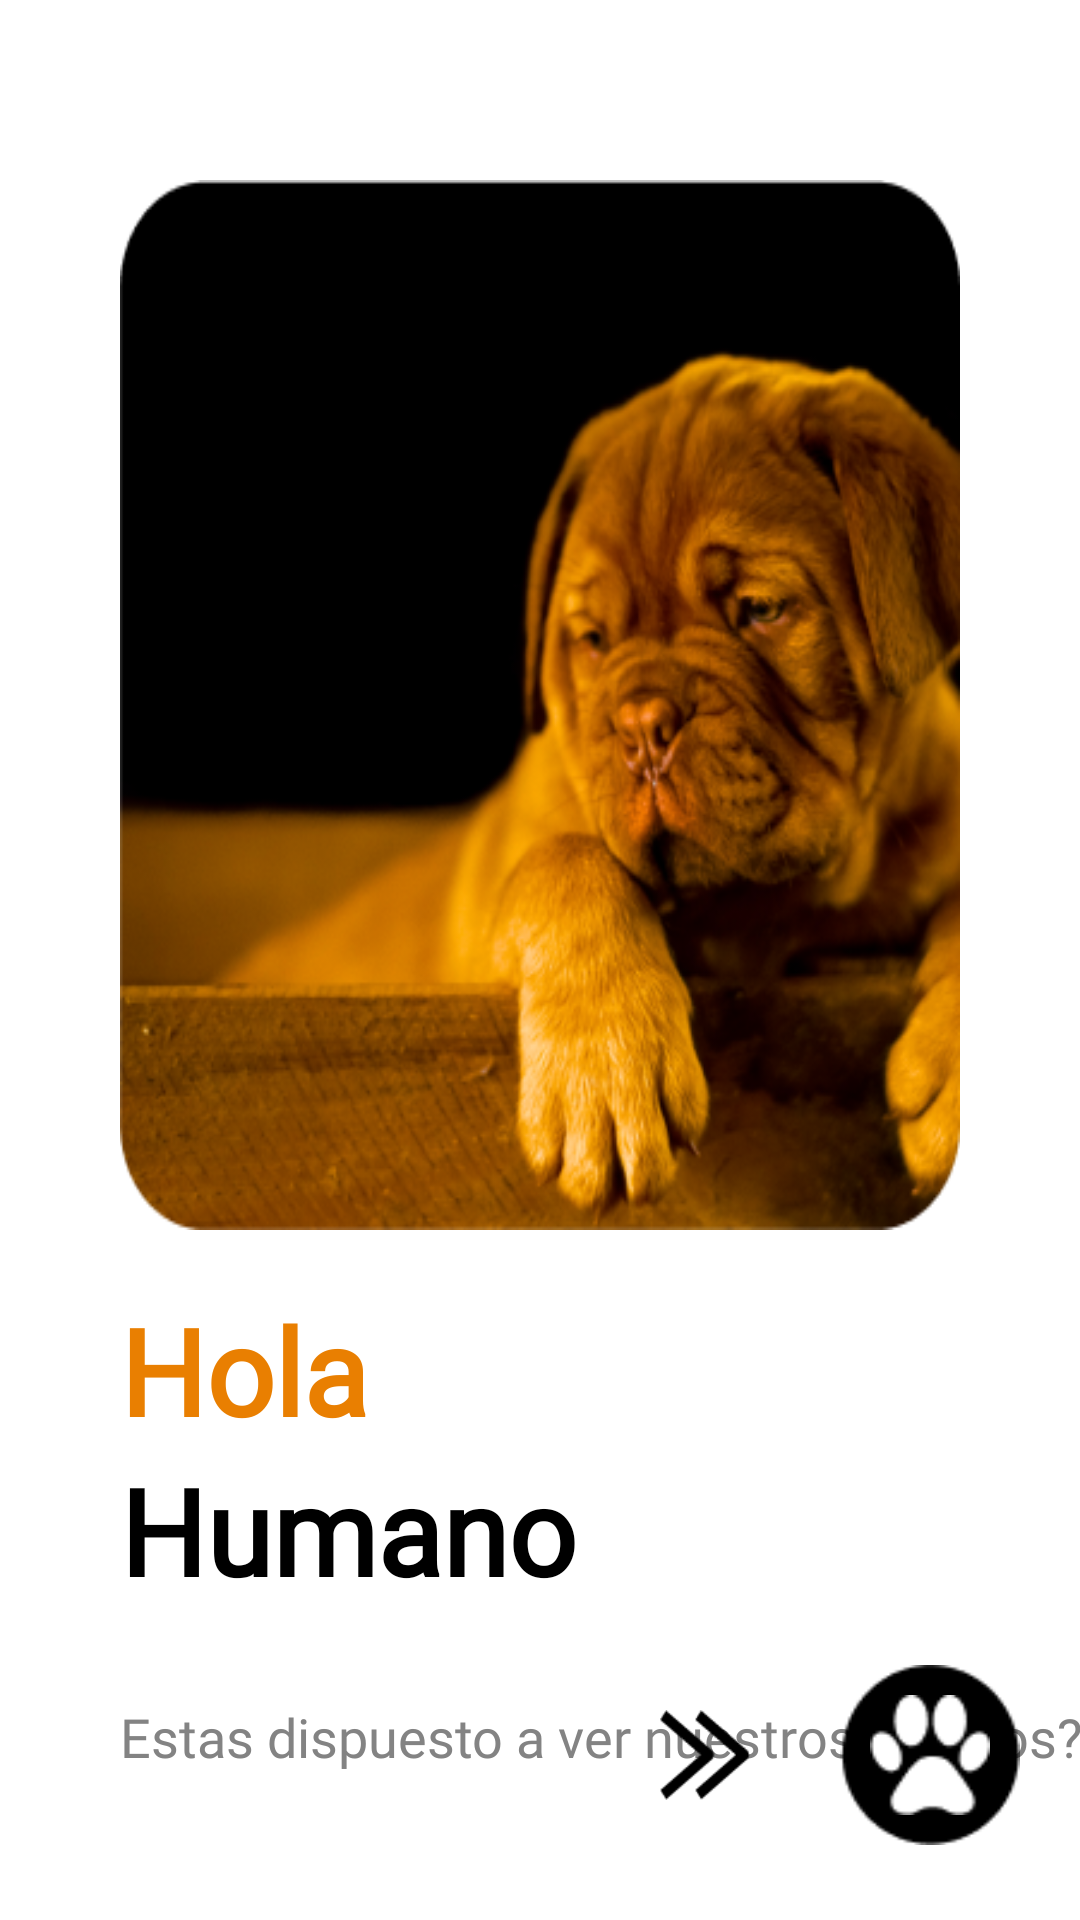

Screen size 1080*1920. Icon name, then its center in pixels as (x=x, y=y):
arrow right: (x=705, y=1755)
